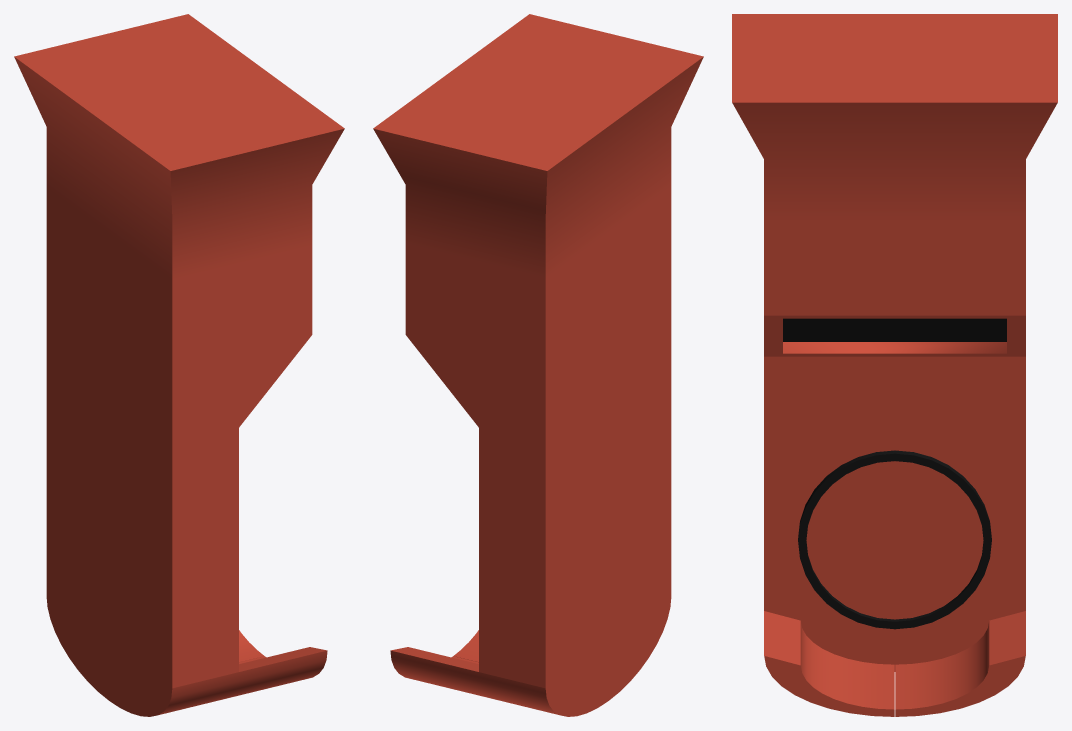
The model's file is Portal.fbx.
3 views of the same model, side by side, from view 1: azimuth 30°, elevation 25°; view 2: azimuth 150°, elevation 25°; view 3: azimuth 270°, elevation 25° (orthographic). The views are drawn at different scales.
Visible parts, largest first — view 1: Portal; view 2: Portal; view 3: Portal.
Boxes of the visible parts, bbox=[...] form: Portal: bbox=[14, 14, 344, 716]; Portal: bbox=[373, 14, 703, 716]; Portal: bbox=[732, 14, 1057, 716].
Size of the model in its own units: 116 by 376 by 180.
